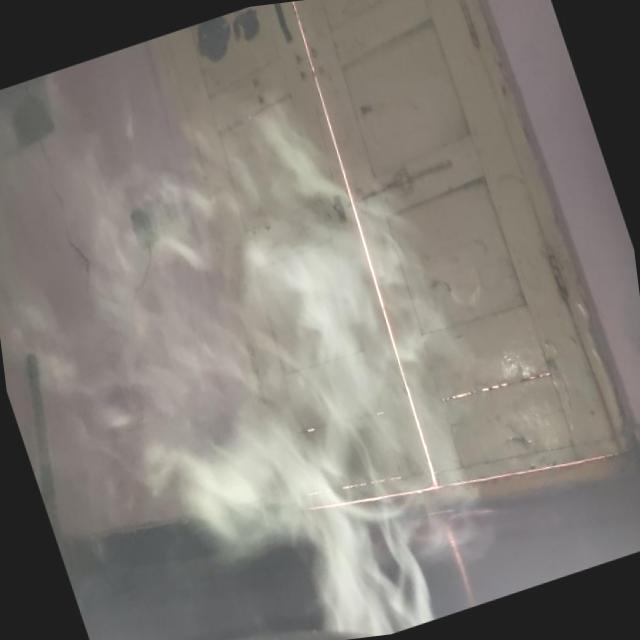smoke: (49, 170, 446, 640)
